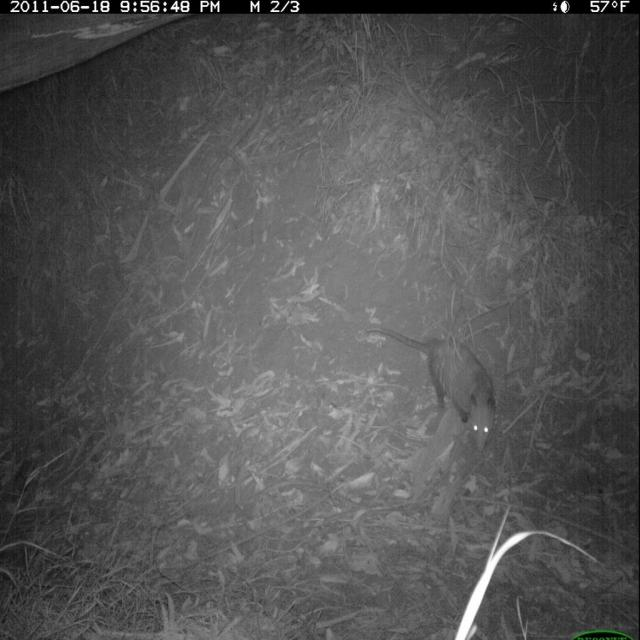opossum: (368, 313, 506, 469)
